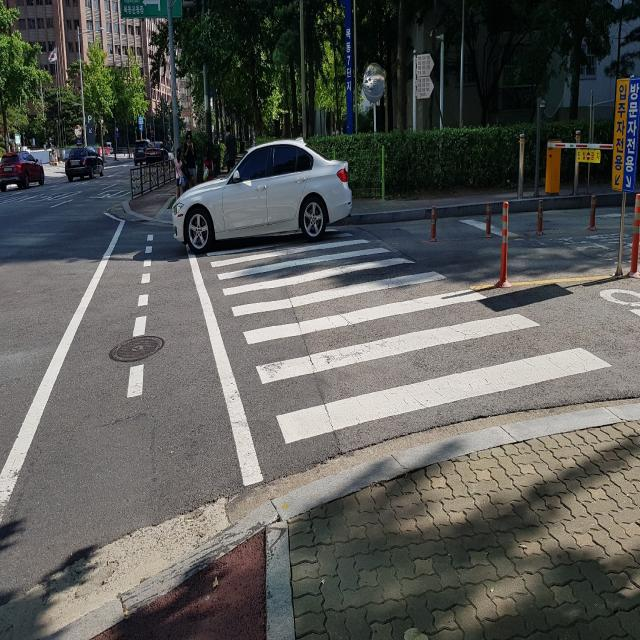횡단보도: (207, 229, 612, 444)
